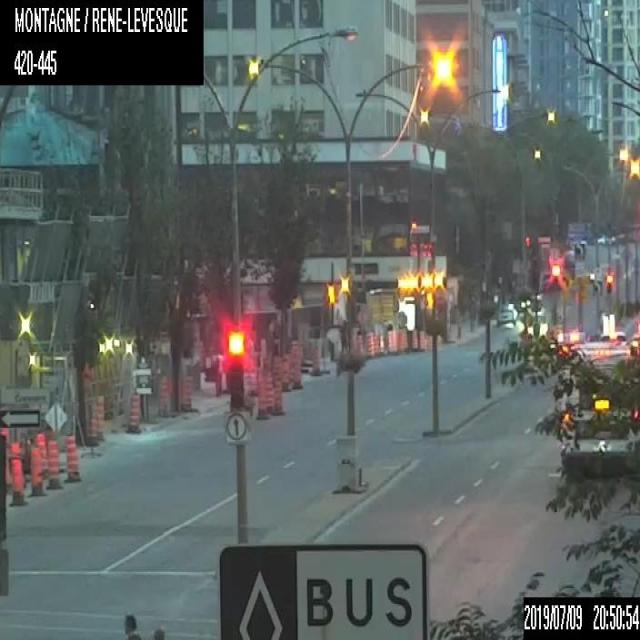bus: (556, 342, 639, 476)
construction: (7, 440, 23, 507), (85, 399, 103, 441), (28, 444, 42, 495), (46, 439, 60, 489), (65, 432, 79, 480), (156, 371, 168, 418), (35, 430, 47, 476), (127, 393, 138, 431), (256, 378, 266, 417), (292, 339, 300, 386), (274, 374, 283, 413), (311, 342, 320, 376), (180, 380, 189, 412), (355, 331, 364, 359), (386, 328, 392, 352), (418, 328, 424, 352), (366, 332, 372, 356), (392, 327, 397, 354), (411, 328, 417, 350), (373, 333, 378, 354)
pedestrian: (122, 612, 142, 639)
vehicle: (496, 300, 516, 324)
